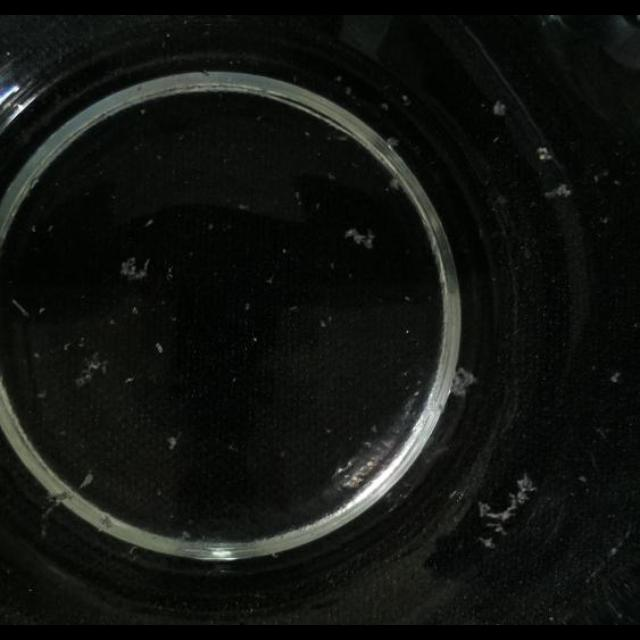Fibre: (476, 470, 538, 538), (75, 350, 111, 388), (450, 366, 478, 396), (120, 256, 150, 282), (344, 227, 376, 249), (516, 474, 536, 496), (78, 472, 94, 490), (388, 176, 402, 192), (385, 136, 399, 148)
microbeads: (544, 183, 572, 199), (536, 146, 554, 162), (492, 100, 506, 116), (166, 437, 178, 451), (609, 371, 621, 383)
